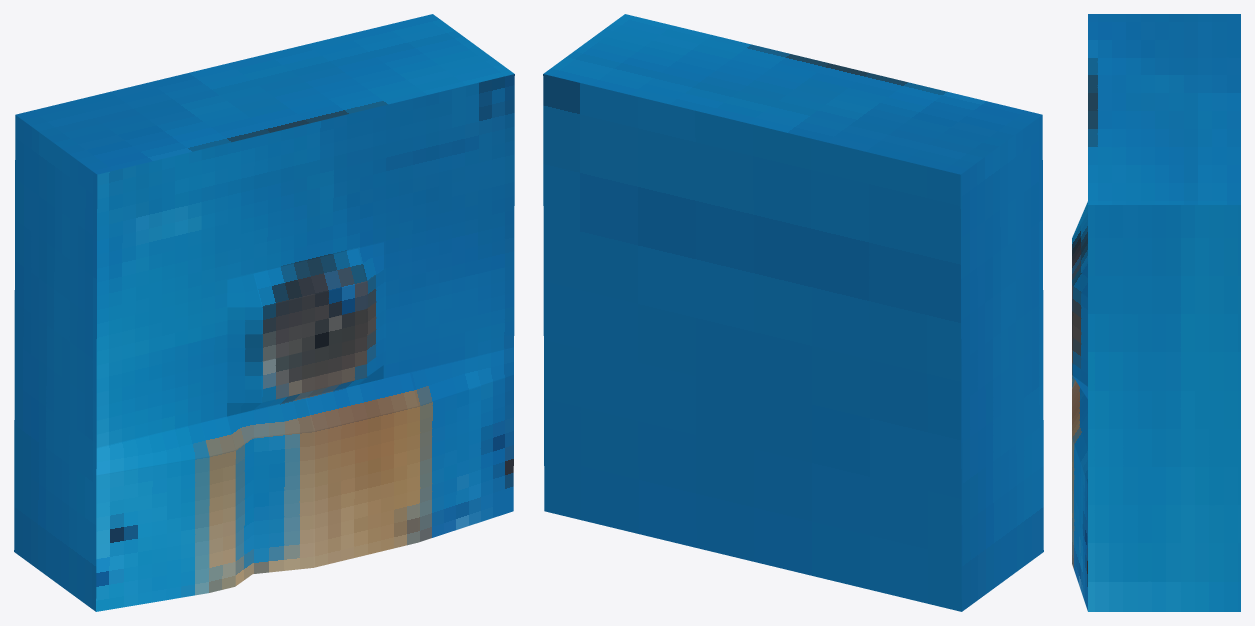
Rendered from O-Diskette-DoMCwFh8.glb.
3 views of the same model, side by side, from view 1: azimuth 30°, elevation 25°; view 2: azimuth 150°, elevation 25°; view 3: azimuth 270°, elevation 25° (orthographic). The views are drawn at different scales.
Parts seen in each view (by area): view 1: Cube; view 2: Cube; view 3: Cube.
Part boxes in pixels (x1,y1,x2,y2): Cube: (14, 14, 514, 611); Cube: (543, 14, 1043, 611); Cube: (1072, 14, 1240, 611).
Size of the model in its own units: 2.01 by 2.01 by 0.7511.
Materials: 1 (1 with a texture image).
